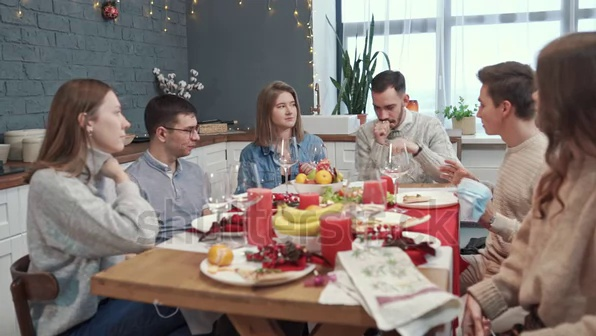No Mask: (60, 79, 132, 162), (476, 70, 534, 146), (140, 98, 206, 163), (251, 83, 311, 139), (364, 76, 411, 131)
